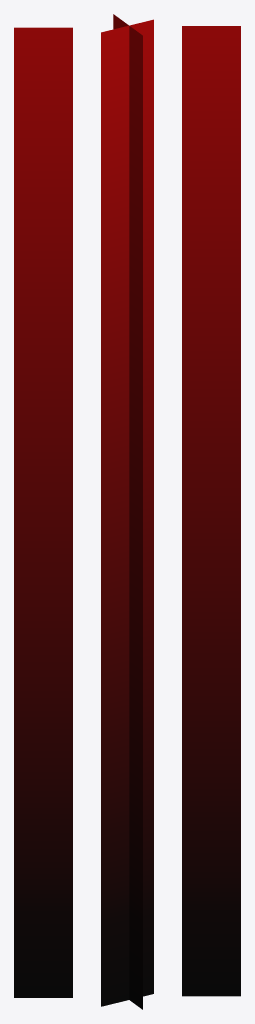
The picture shows the model from 3 angles, left to right: view 1: azimuth 90°, elevation 25°; view 2: azimuth 210°, elevation 25°; view 3: azimuth 270°, elevation 25°; orthographic projection.
Visible parts, largest first — view 1: KELP_LP_001; view 2: KELP_LP_001; view 3: KELP_LP_001.
Boxes of the visible parts, x1,y1,x2,y2 form: KELP_LP_001: (14, 27, 72, 997); KELP_LP_001: (101, 14, 153, 1009); KELP_LP_001: (182, 26, 240, 996).
Bounding box in the file's own units: 1.1 × 19.28 × 1.06.
